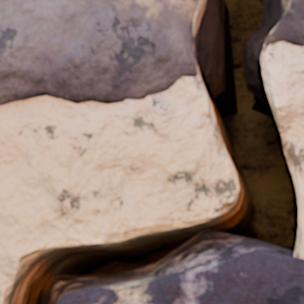brick: (61, 250, 303, 303)
broken_brick: (0, 0, 195, 106), (266, 0, 303, 49)
crack: (2, 0, 303, 303)
